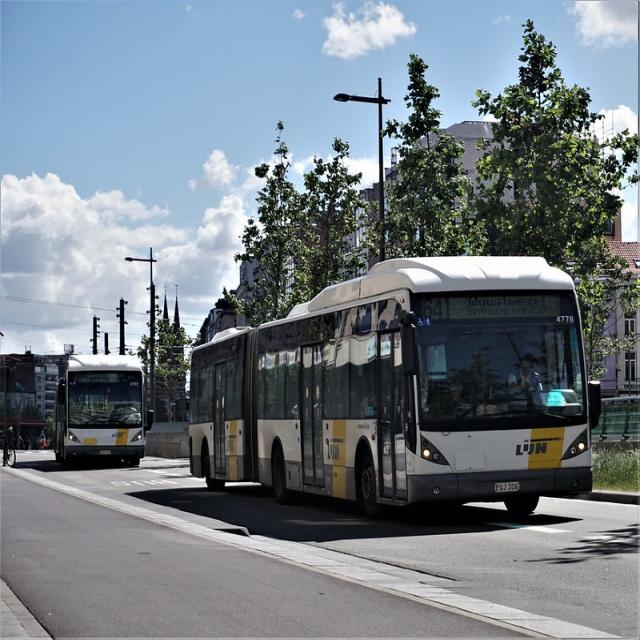bus-number: (422, 296, 451, 321)
